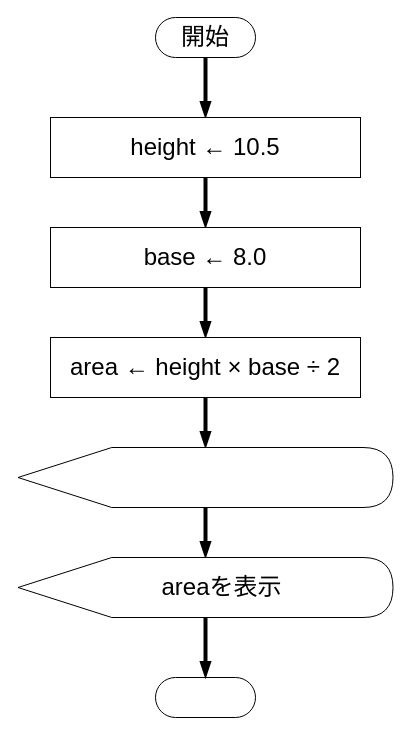
Some shapes in this 410 by 735 pixel diagram are drawn without their labels. Here are the shapes that lost their labels. From the top down, the box of each, then its label:
(17, 446, 393, 508): 「三角形の面積：」を表示（改行なし）
(154, 676, 256, 718): 終了
